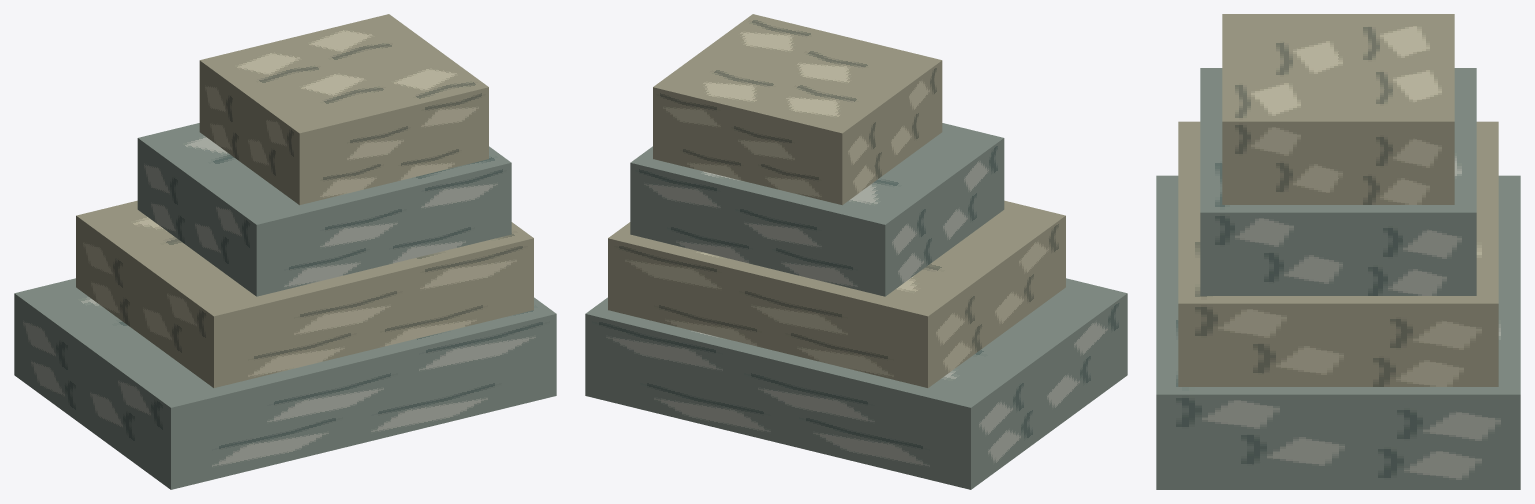
Rendered from pedra-estratos-v01.gltf.
The picture shows the model from 3 angles, left to right: view 1: azimuth 30°, elevation 25°; view 2: azimuth 150°, elevation 25°; view 3: azimuth 270°, elevation 25°; orthographic projection. The views are drawn at different scales.
Visible parts, largest first — view 1: forma; view 2: forma; view 3: forma.
Boxes of the visible parts, x1,y1,x2,y2 form: forma: (14,14,556,489); forma: (585,14,1127,489); forma: (1156,14,1520,489).
Bounding box in the file's own units: 1.18 × 0.87 × 0.83.
1 material, 1 textured.
